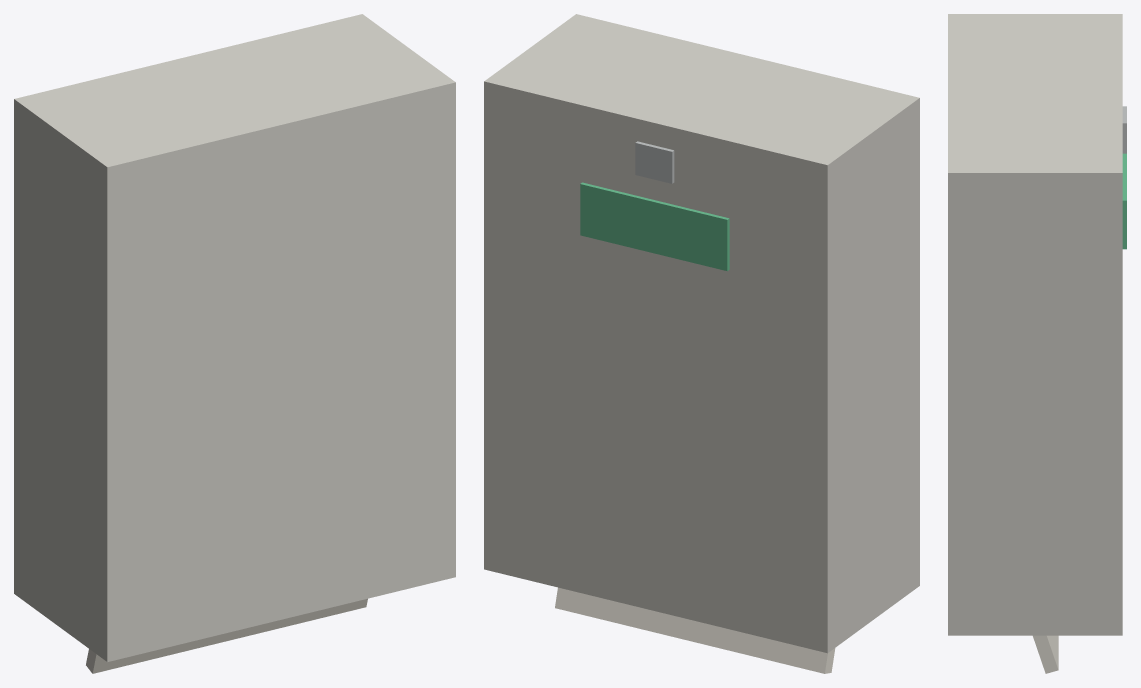
The model's file is towel_dispenser.fbx.
3 views of the same model, side by side, from view 1: azimuth 30°, elevation 25°; view 2: azimuth 150°, elevation 25°; view 3: azimuth 270°, elevation 25° (orthographic). The views are drawn at different scales.
Parts seen in each view (by area): view 1: towel_dispenser; view 2: towel_dispenser; view 3: towel_dispenser.
Boxes of the visible parts, bbox=[...] form: towel_dispenser: bbox=[14, 14, 455, 673]; towel_dispenser: bbox=[484, 14, 919, 673]; towel_dispenser: bbox=[948, 14, 1126, 673].
Size of the model in its own units: 28 by 42.54 by 13.3.
